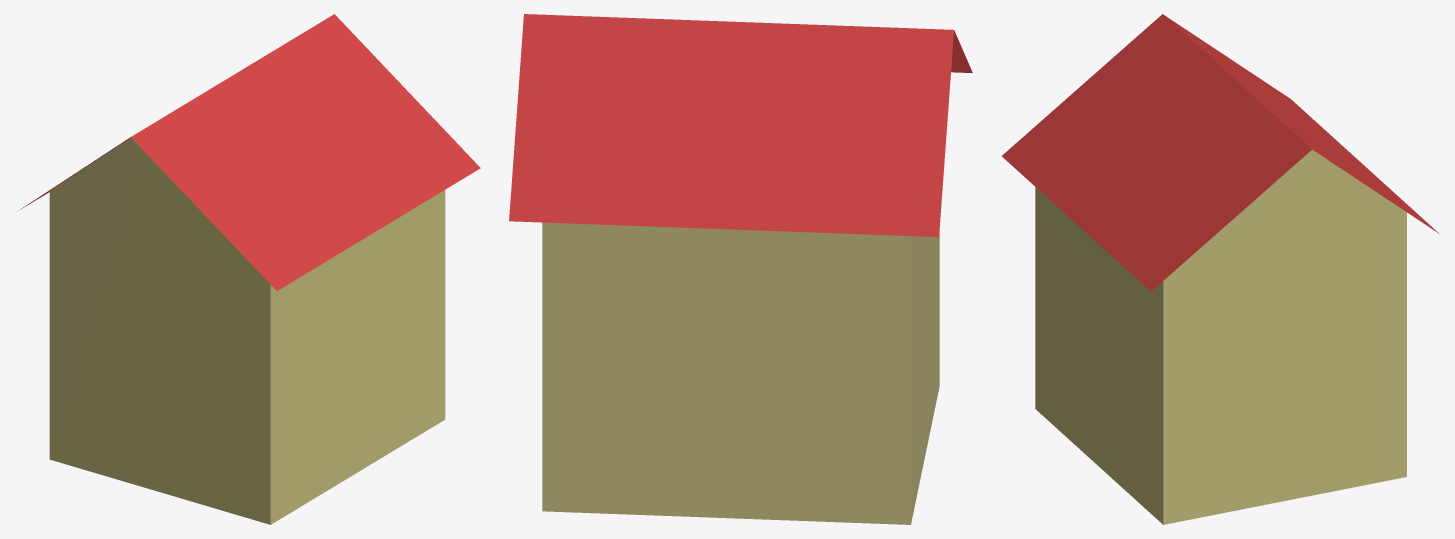
3 views of the same model, side by side, from view 1: azimuth 30°, elevation 25°; view 2: azimuth 150°, elevation 25°; view 3: azimuth 270°, elevation 25° (orthographic). The views are drawn at different scales.
Size of the model in its own units: 8.99 by 8.66 by 7.79.
